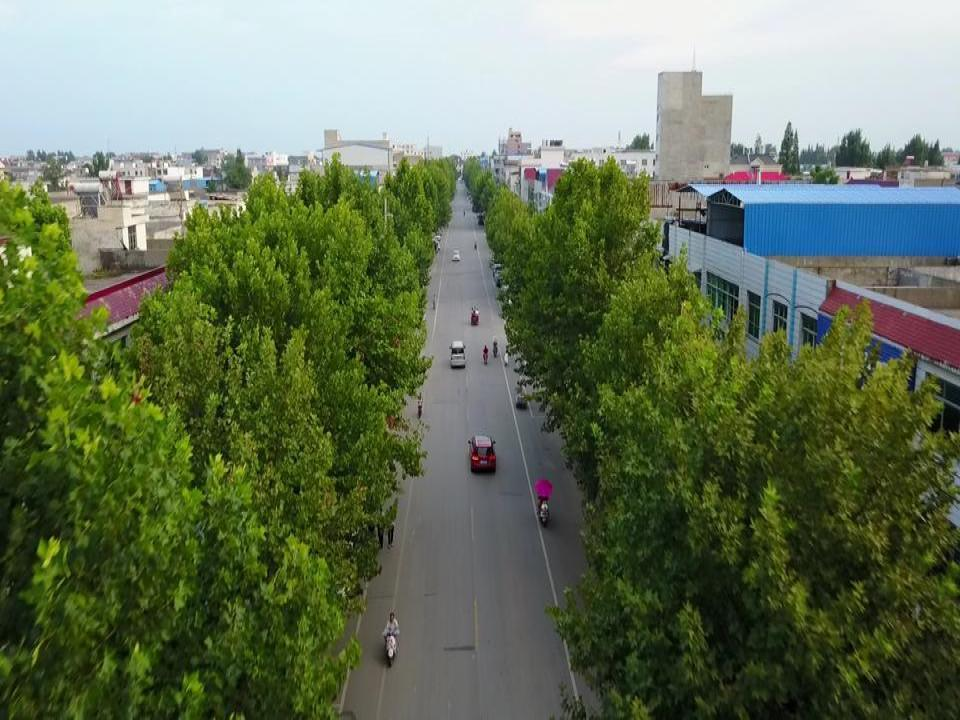car: (468, 435, 495, 472), (449, 340, 467, 365), (453, 249, 460, 260)
